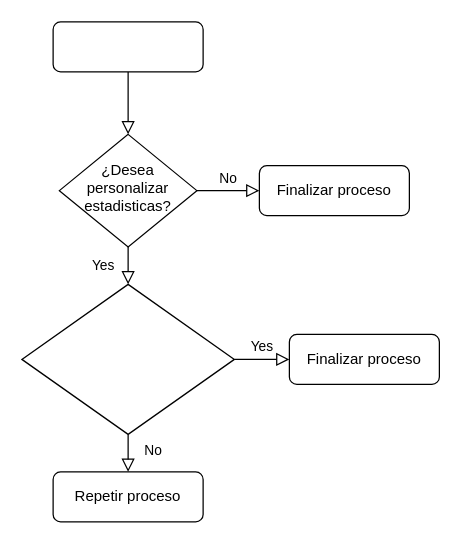
Some shapes in this 461 by 544 pixel diagram are drawn without their labels. The shapes that lost their labels are listed below. From the top down, each one's centre as x and y in pixels, then its label:
(127,46): login
(127,358): ¿Ya se personalizaron estadisticas climaticas?
